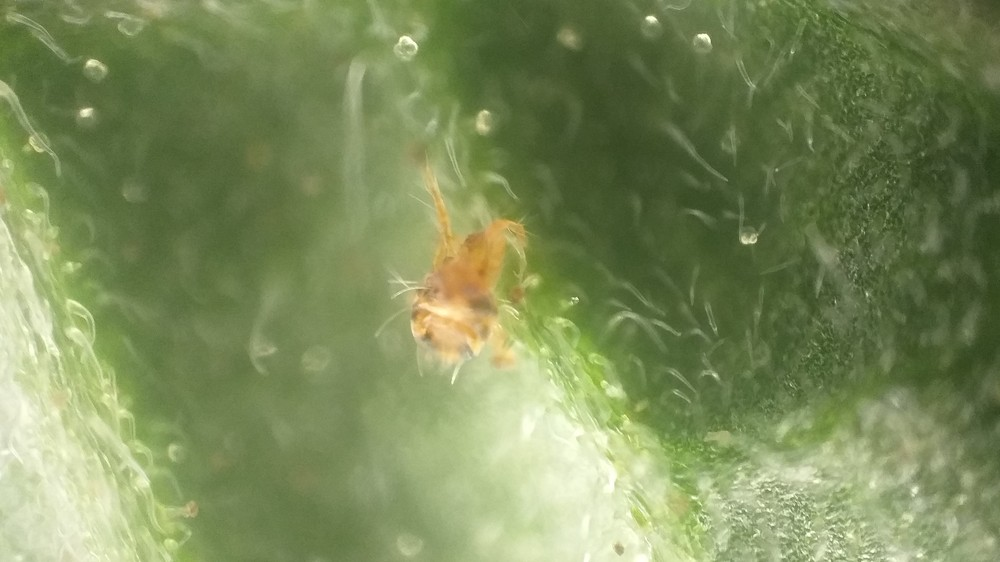Aracnido Rojo: (362, 156, 557, 403)
